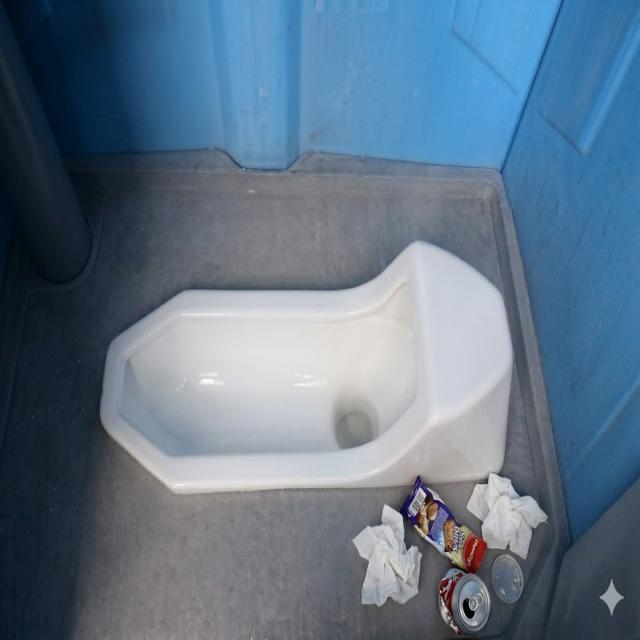garbage: (349, 459, 548, 634)
